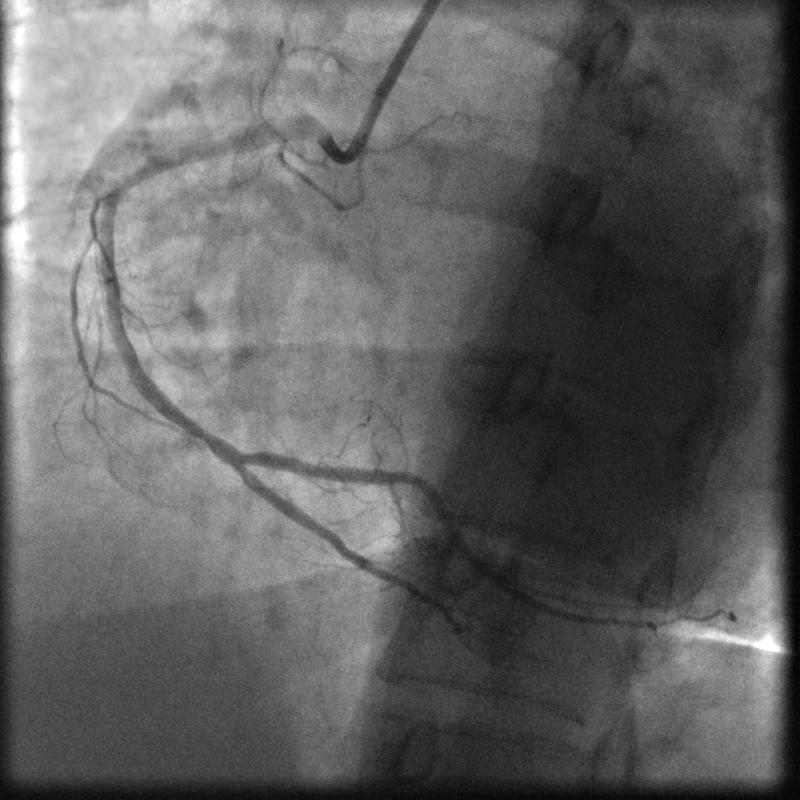Stenosis: (194, 412, 218, 462)
